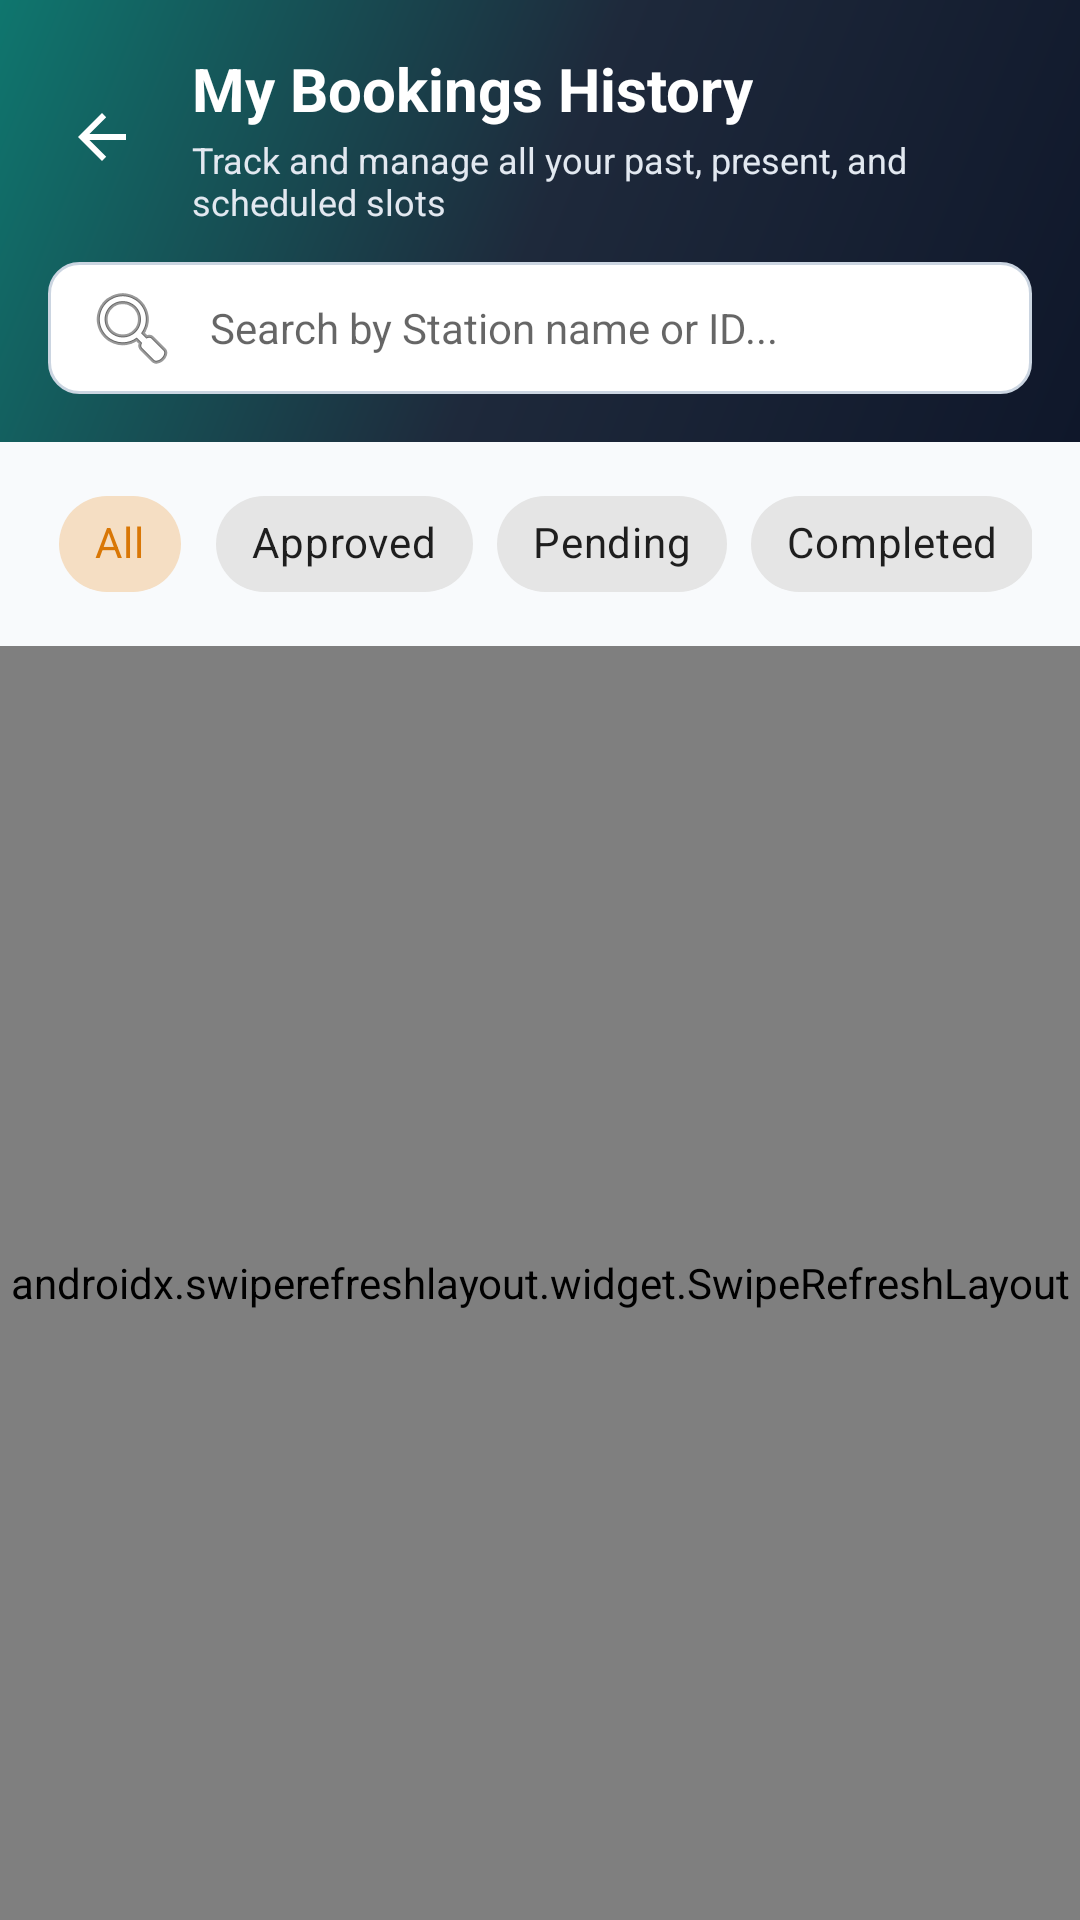

Point at icon controls on the screen. Image size 1080 × 1920, points as [x,y].
Back: [102,137]
